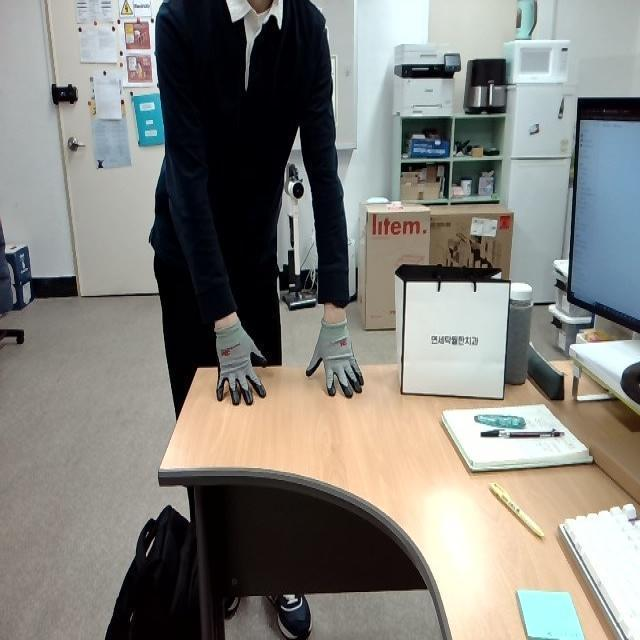gloved_hand: (199, 306, 272, 412), (295, 304, 373, 403)
